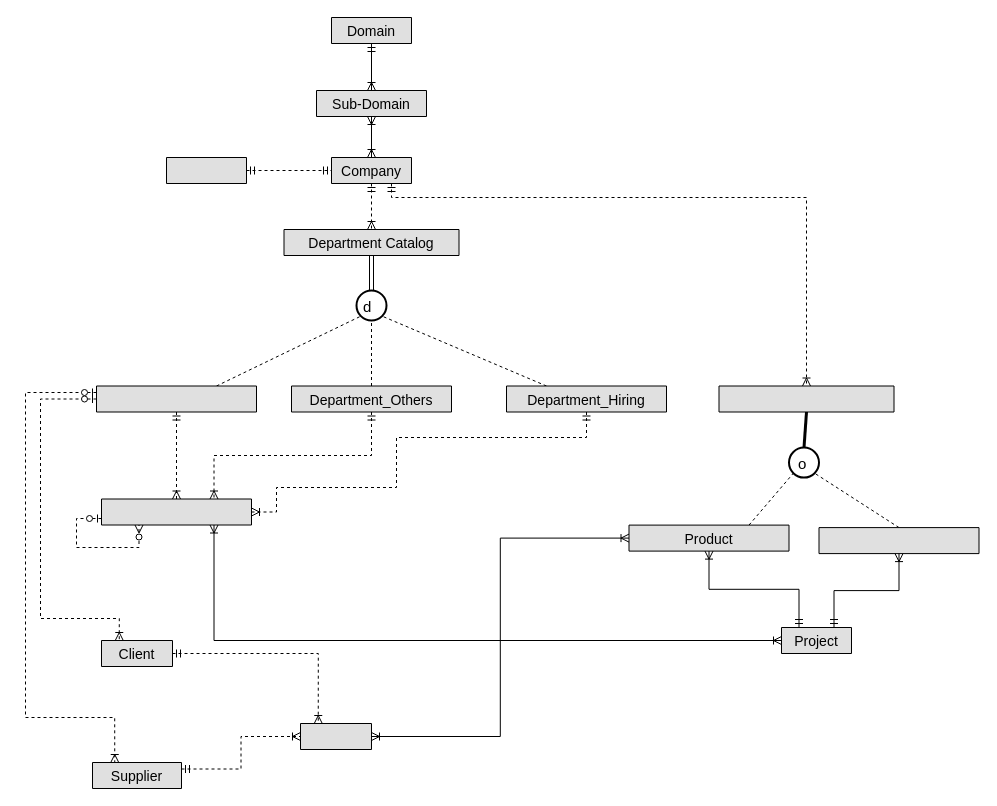
Some shapes in this 997 by 806 pixel diagram are drawn without their labels. Here are the shapes that lost their labels. From the top down, the box of each, then its label:
(166, 156, 246, 184): Admin
(96, 385, 256, 412): Department_Finance
(718, 385, 894, 412): Product/Service_Catalog
(100, 498, 252, 525): Employee
(818, 527, 979, 554): Service
(300, 722, 372, 750): Order
